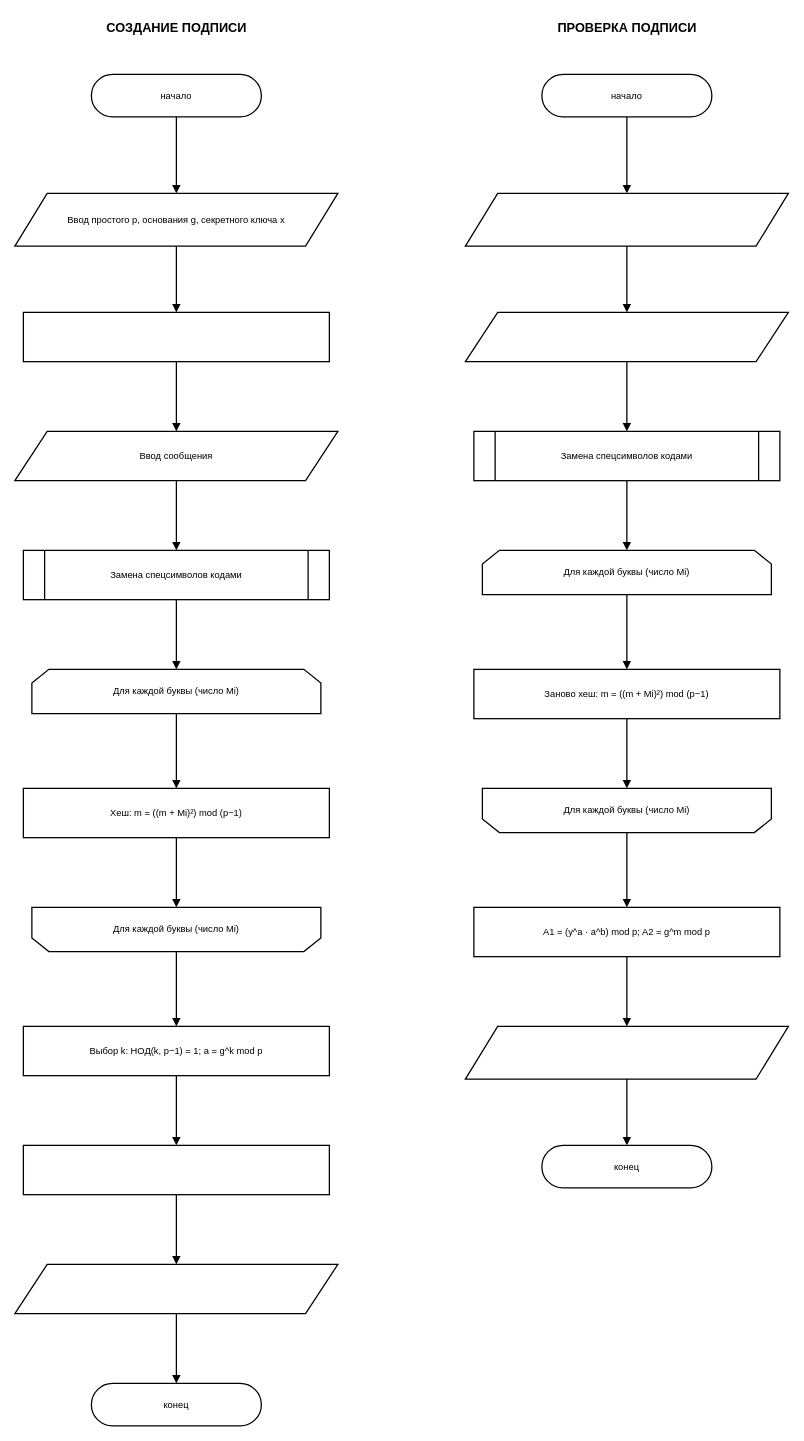
This 804x1441 diagram has some shape labels left out. The shapes that lost their labels are listed below. From the top down, each one's centre as x and y in pixels, then its label:
(x=626, y=219): Ввод простого p, основания g, открытого ключа y
(x=176, y=336): Открытый ключ: y = g^x mod p
(x=626, y=336): Ввод сообщения и подписи (a, b)
(x=626, y=1052): Если A1 = A2 — подпись верна, иначе неверна
(x=176, y=1169): b = (m − x·a)·k⁻¹ mod (p−1)
(x=176, y=1288): Вывод сообщения и подписи (a, b)
